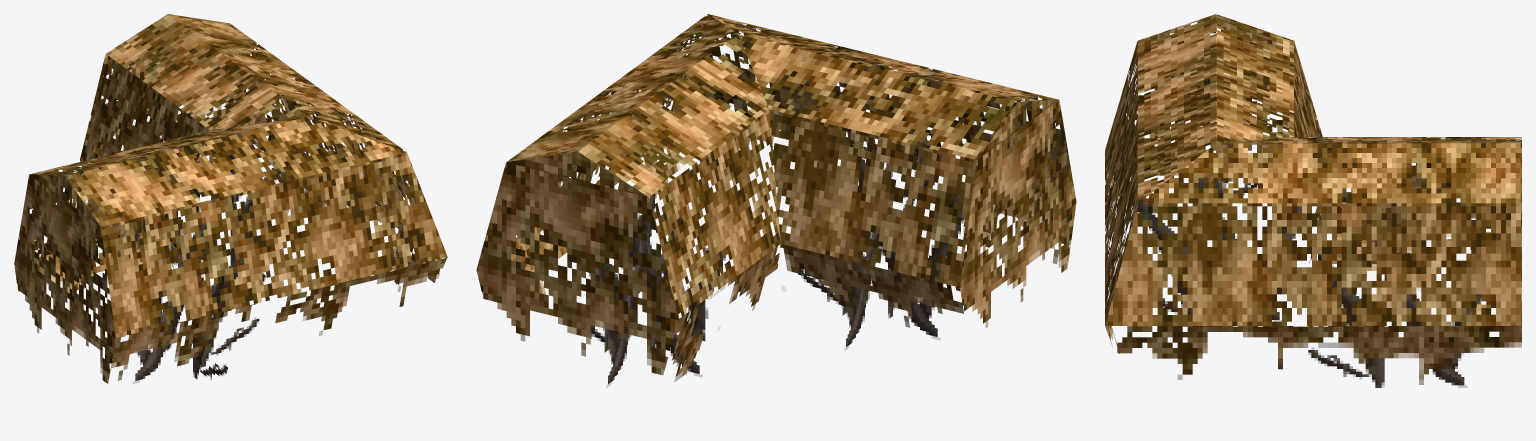
Rendered from bush_square_corner_roots_cat_autumn.glb.
3 renders of one model, left to right at view 1: azimuth 30°, elevation 25°; view 2: azimuth 150°, elevation 25°; view 3: azimuth 270°, elevation 25°, orthographic. The views are drawn at different scales.
Visible parts, largest first — view 1: bush_square_corner_roots_cat_autumn; view 2: bush_square_corner_roots_cat_autumn; view 3: bush_square_corner_roots_cat_autumn.
Boxes of the visible parts, <box> form: bush_square_corner_roots_cat_autumn: <box>14,14,447,383</box>; bush_square_corner_roots_cat_autumn: <box>476,14,1076,387</box>; bush_square_corner_roots_cat_autumn: <box>1105,14,1521,387</box>.
Bounding box in the file's own units: 1.36 × 0.8765 × 1.35.
Materials: 2 (2 with a texture image).
